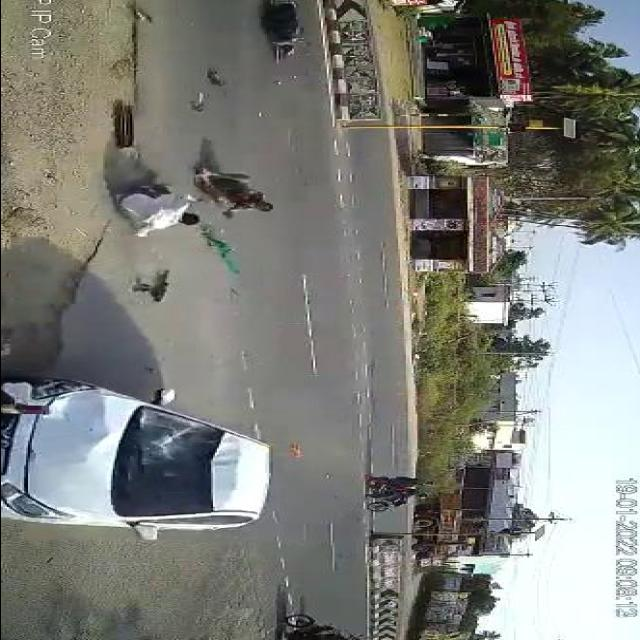accident: (0, 370, 278, 544), (241, 0, 331, 71)
